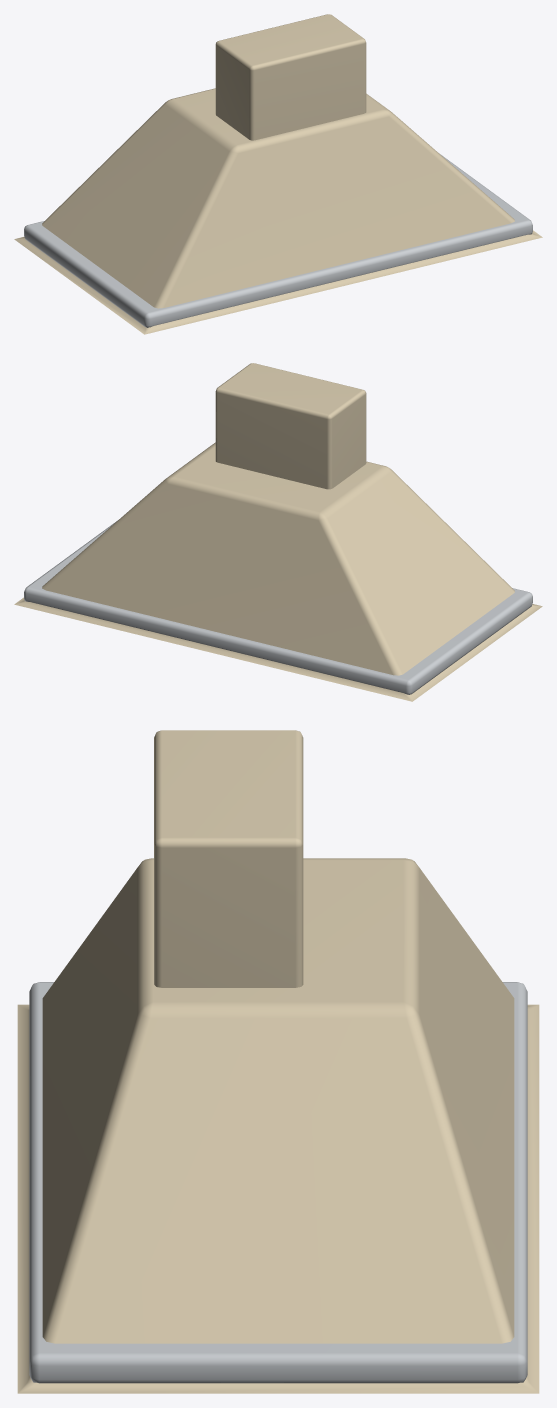
The model's file is range_hood.glb.
3 renders of one model, top to bottom at view 1: azimuth 30°, elevation 25°; view 2: azimuth 150°, elevation 25°; view 3: azimuth 270°, elevation 25°, orthographic. The views are drawn at different scales.
Visible parts, largest first — view 1: canopy; view 2: canopy; view 3: canopy.
Part boxes in pixels (x1=…): canopy: x1=14, y1=14, x2=542, y2=334; canopy: x1=14, y1=363, x2=542, y2=701; canopy: x1=17, y1=730, x2=539, y2=1393.
Bounding box in the file's own units: 0.924 × 0.464 × 0.524.
